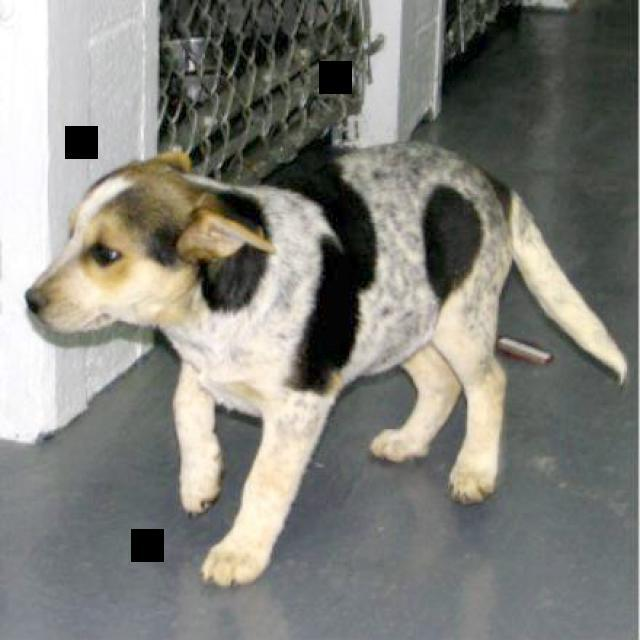puppy-dog: (27, 134, 630, 592)
